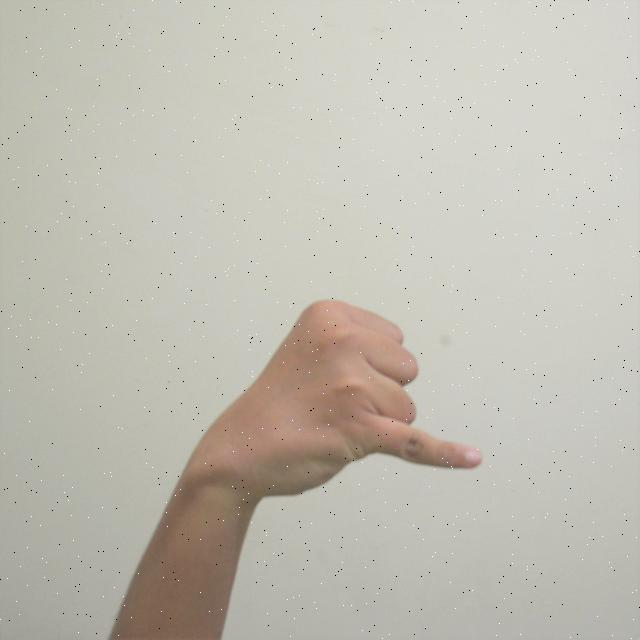J: (172, 288, 492, 514)
